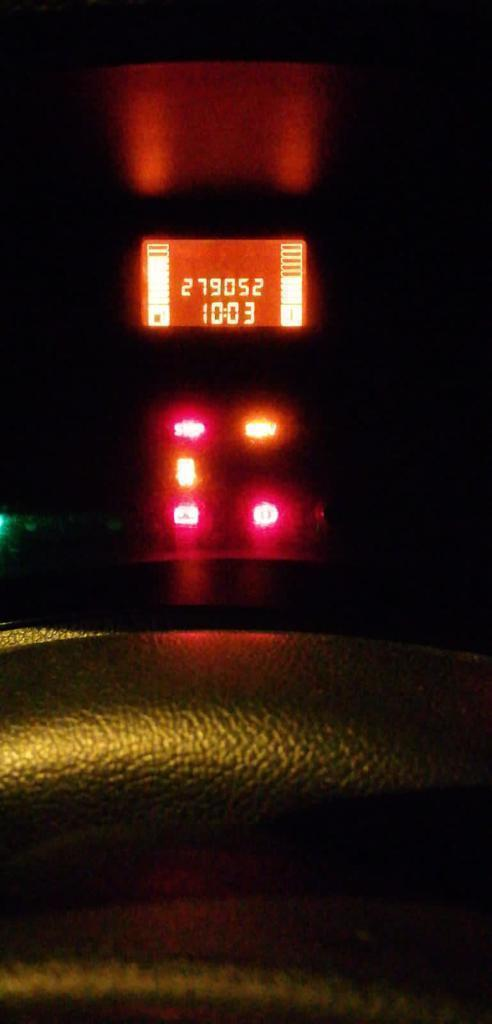0: (210, 301, 223, 324), (226, 301, 239, 324), (223, 278, 235, 296)
1: (201, 302, 207, 324)
2: (251, 278, 263, 296), (180, 278, 192, 296)
3: (242, 301, 255, 324)
5: (237, 278, 249, 296)
7: (197, 277, 207, 296)
9: (209, 277, 221, 296)
X: (223, 307, 227, 317)
odometer: (138, 237, 306, 329)
